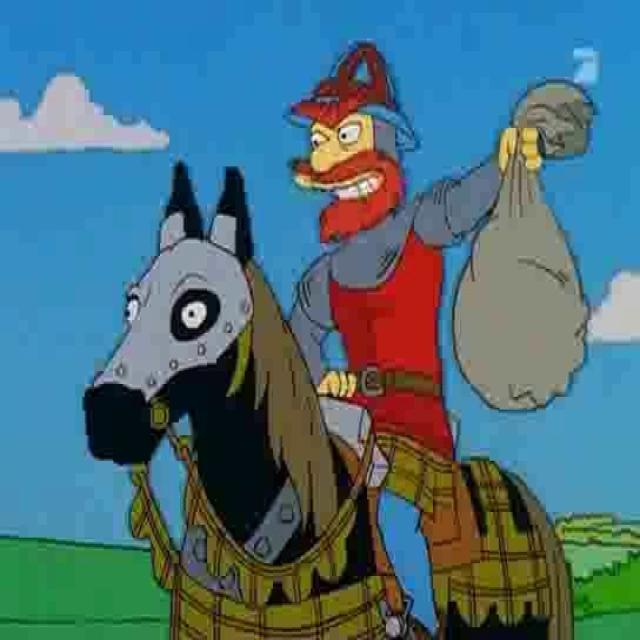Groundskeeper Willie: (288, 91, 411, 245)
